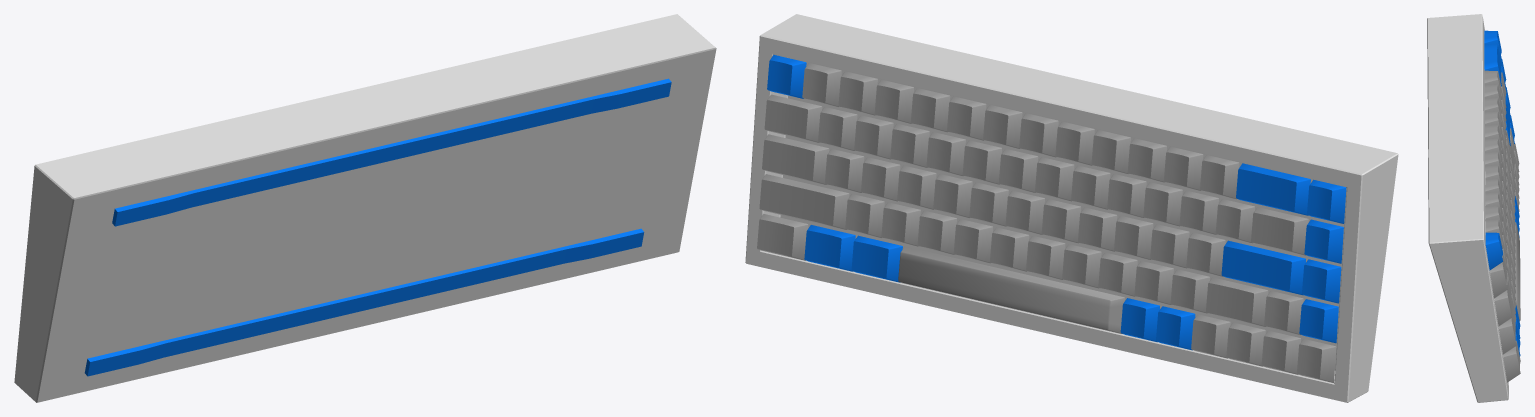
Rendered from mechanicalKeyboard.glb.
The picture shows the model from 3 angles, left to right: view 1: azimuth 30°, elevation 25°; view 2: azimuth 150°, elevation 25°; view 3: azimuth 270°, elevation 25°; orthographic projection. The views are drawn at different scales.
Visible parts, largest first — view 1: Case.005, Feet, Object_4; view 2: Object_4, Case.005, Specials5, Specials1, Specials2, Specials4, Specials3; view 3: Case.005, Object_4, Specials3, Specials2, Specials5, Specials1, Specials4.
Boxes of the visible parts, x1=… form: Case.005: x1=14, y1=14, x2=716, y2=402; Feet: x1=84, y1=78, x2=671, y2=376; Object_4: x1=36, y1=47, x2=716, y2=402; Object_4: x1=757, y1=63, x2=1336, y2=382; Case.005: x1=745, y1=14, x2=1398, y2=402; Specials5: x1=851, y1=235, x2=1338, y2=343; Specials1: x1=1221, y1=240, x2=1341, y2=303; Specials2: x1=1236, y1=163, x2=1343, y2=263; Specials4: x1=804, y1=225, x2=1195, y2=350; Specials3: x1=767, y1=55, x2=1346, y2=223; Case.005: x1=1428, y1=14, x2=1508, y2=402; Object_4: x1=1427, y1=18, x2=1520, y2=382; Specials3: x1=1484, y1=30, x2=1502, y2=270; Specials2: x1=1484, y1=44, x2=1506, y2=87; Specials5: x1=1510, y1=115, x2=1520, y2=338; Specials1: x1=1505, y1=87, x2=1510, y2=145; Specials4: x1=1514, y1=196, x2=1520, y2=356.
Size of the model in its own units: 46.46 by 16.62 by 8.28.
